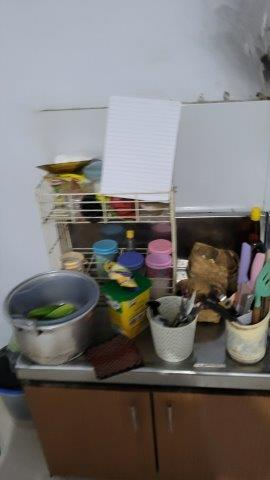kertas: (102, 97, 177, 199)
